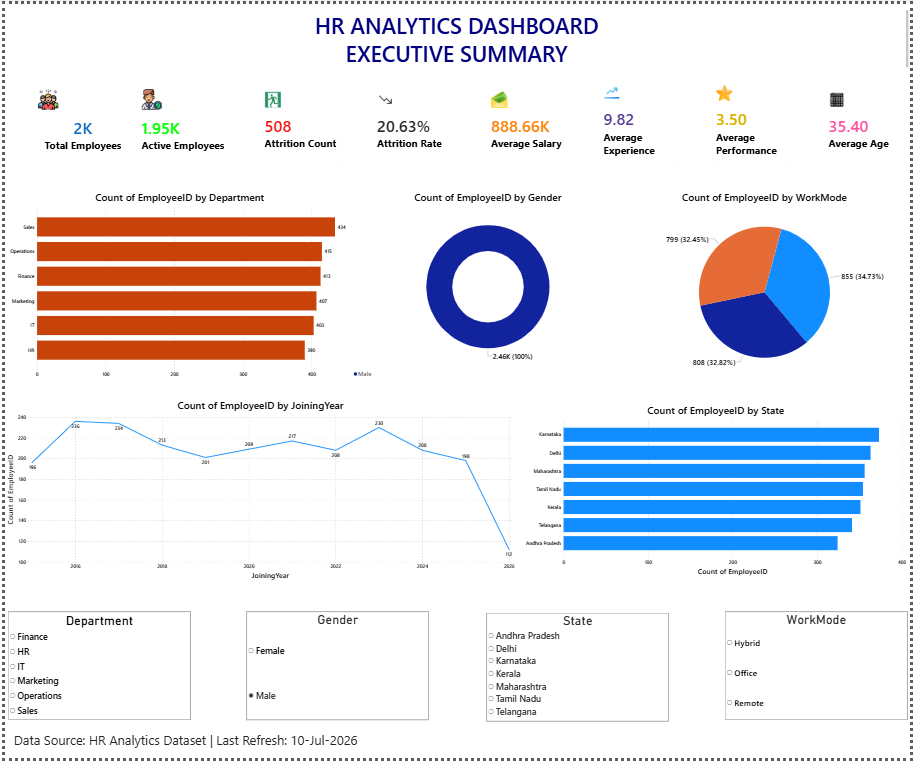

This screenshot's page, from the dashboard's own definition file:
{"tool":"powerbi","page":{"name":"Executive Summary","canvas":[3000,2500],"ordinal":0},"visuals":[{"type":"clusteredBarChart","fields":{"Category":["Employees.Department"],"Y":["CountNonNull(Employees.EmployeeID)"]},"box":[11,617.4,1139.2,632.1],"z":0},{"type":"listSlicer","fields":{"Values":["Employees.Department"]},"box":[10.6,2014.8,605.2,359],"z":0,"group":"g2"},{"type":"textbox","box":[0,14.1,3000,200.9],"z":1000},{"type":"listSlicer","fields":{"Values":["Employees.Gender"]},"box":[799.6,2012.9,604.1,359.6],"z":1000,"group":"g2"},{"type":"donutChart","fields":{"Category":["Employees.Gender"],"Y":["CountNonNull(Employees.EmployeeID)"]},"box":[1150.3,617.4,904,632.1],"z":2000},{"type":"listSlicer","fields":{"Values":["Employees.State"]},"box":[1599.5,2016.4,604.1,359.6],"z":2000,"group":"g2"},{"type":"pieChart","fields":{"Category":["Employees.WorkMode"],"Y":["CountNonNull(Employees.EmployeeID)"]},"box":[2042,616.8,947.5,632.5],"z":3000},{"type":"listSlicer","fields":{"Values":["Employees.WorkMode"]},"box":[2387.7,2014.8,605.2,359],"z":3000,"group":"g2"},{"type":"clusteredBarChart","fields":{"Category":["Employees.State"],"Y":["CountNonNull(Employees.EmployeeID)"]},"box":[1719.9,1323,1271.5,577],"z":4000},{"type":"group","id":"g1","title":"Group 1","box":[77.2,219.4,2921.6,335.5],"z":5000},{"type":"lineChart","fields":{"Category":["Employees.JoiningYear"],"Y":["CountNonNull(Employees.EmployeeID)"]},"box":[0,1308.3,1694.2,606.4],"z":6000},{"type":"group","id":"g2","title":"Group 2","box":[10.6,2012.9,2982.4,363.1],"z":7000},{"type":"textbox","box":[0,2407.1,1198,91.9],"z":8000},{"type":"cardVisual","fields":{"Data":["Divide(Employees.Attrition Rate, ScopedEval(Employees.Attrition Rate, []))"]},"box":[1202.7,220.5,299.9,334.4],"z":9500,"group":"g1"},{"type":"cardVisual","fields":{"Data":["Employees.Average Experience"]},"box":[1950.8,220.5,299.9,334.4],"z":9750,"group":"g1"},{"type":"cardVisual","fields":{"Data":["Employees.Active Employees"]},"box":[420,219.4,356.7,333.3],"z":9875,"group":"g1"},{"type":"cardVisual","fields":{"Data":["Employees.Average Salary"]},"box":[1576.8,220.5,299.9,334.4],"z":9937,"group":"g1"},{"type":"cardVisual","fields":{"Data":["Employees.Attrition Count"]},"box":[828.7,220.5,299.9,334.4],"z":9968,"group":"g1"},{"type":"cardVisual","fields":{"Data":["Employees.Total Employees"]},"box":[77.2,220.5,355.3,333.6],"z":9984,"group":"g1"},{"type":"cardVisual","fields":{"Data":["Employees.Average Performance"]},"box":[2324.9,220.5,299.9,334.4],"z":9992,"group":"g1"},{"type":"cardVisual","fields":{"Data":["Employees.Average Age"]},"box":[2698.9,220.5,299.9,334.4],"z":13500,"group":"g1"}]}

Visuals, with their boxes in screenshot pixels (x1, y1, x2, y2), scaled from the page's 3000x2500 canvas onto the 913x761 screenshot:
clusteredBarChart - Employees.Department x CountNonNull(Employees.EmployeeID): [left=3, top=188, right=350, bottom=380]
listSlicer - Employees.Department: [left=3, top=613, right=187, bottom=723]
textbox: [left=0, top=4, right=912, bottom=65]
listSlicer - Employees.Gender: [left=243, top=613, right=427, bottom=722]
donutChart - Employees.Gender x CountNonNull(Employees.EmployeeID): [left=350, top=188, right=625, bottom=380]
listSlicer - Employees.State: [left=487, top=614, right=671, bottom=723]
pieChart - Employees.WorkMode x CountNonNull(Employees.EmployeeID): [left=621, top=188, right=910, bottom=380]
listSlicer - Employees.WorkMode: [left=727, top=613, right=911, bottom=723]
clusteredBarChart - Employees.State x CountNonNull(Employees.EmployeeID): [left=523, top=403, right=910, bottom=578]
"Group 1" group: [left=23, top=67, right=912, bottom=169]
lineChart - Employees.JoiningYear x CountNonNull(Employees.EmployeeID): [left=0, top=398, right=516, bottom=583]
"Group 2" group: [left=3, top=613, right=911, bottom=723]
textbox: [left=0, top=733, right=365, bottom=760]
cardVisual - Divide(Employees.Attrition Rate, ScopedEval(Employees.Attrition Rate, [])): [left=366, top=67, right=457, bottom=169]
cardVisual - Employees.Average Experience: [left=594, top=67, right=685, bottom=169]
cardVisual - Employees.Active Employees: [left=128, top=67, right=236, bottom=168]
cardVisual - Employees.Average Salary: [left=480, top=67, right=571, bottom=169]
cardVisual - Employees.Attrition Count: [left=252, top=67, right=343, bottom=169]
cardVisual - Employees.Total Employees: [left=23, top=67, right=132, bottom=169]
cardVisual - Employees.Average Performance: [left=708, top=67, right=799, bottom=169]
cardVisual - Employees.Average Age: [left=821, top=67, right=912, bottom=169]
